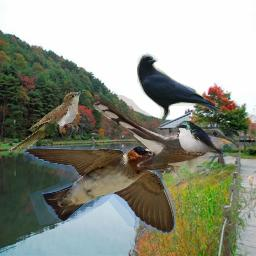Crow: (137, 53, 222, 122)
Cuckoo: (91, 95, 239, 190), (8, 90, 86, 152)
Swallow: (23, 146, 176, 234), (175, 120, 227, 155)
